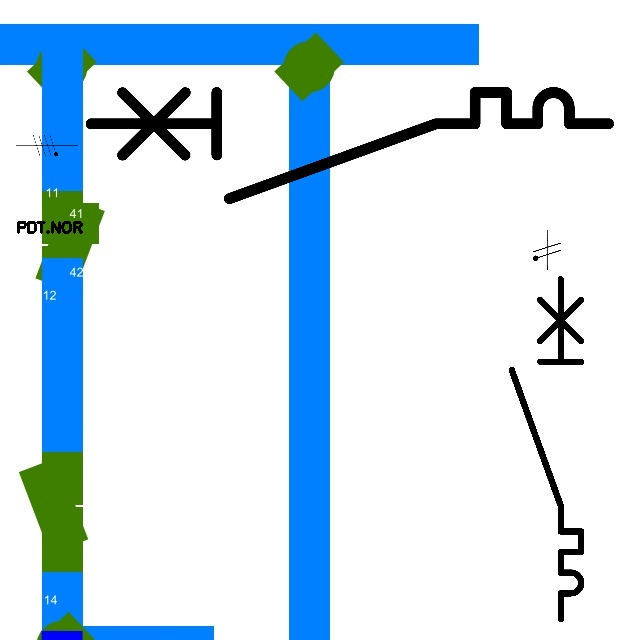interruptor_termomagnetico: (77, 79, 621, 212), (503, 270, 590, 627)
